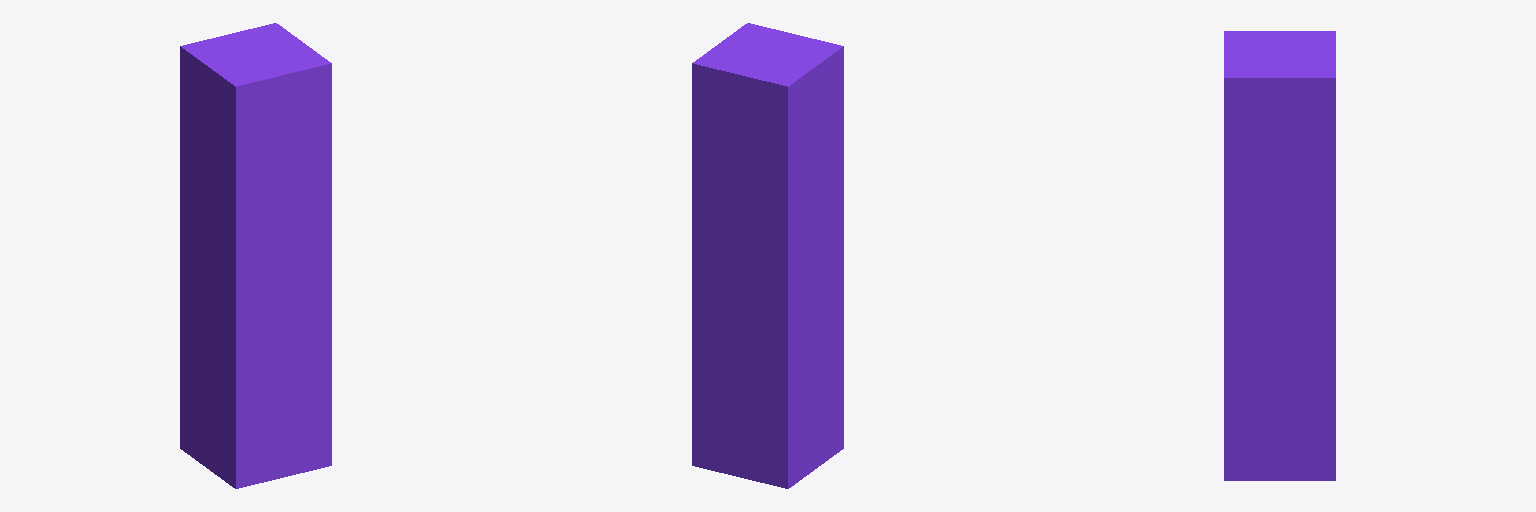
3 renders of one model, left to right at view 1: azimuth 30°, elevation 25°; view 2: azimuth 150°, elevation 25°; view 3: azimuth 270°, elevation 25°, orthographic.
Visible parts, largest first — view 1: Cube; view 2: Cube; view 3: Cube.
Part boxes in pixels (bbox=[...]): Cube: bbox=[180, 23, 331, 488]; Cube: bbox=[692, 23, 843, 488]; Cube: bbox=[1224, 31, 1335, 480].
Bounding box in the file's own units: 0.5 × 2 × 0.5.
1 materials, 1 textured.